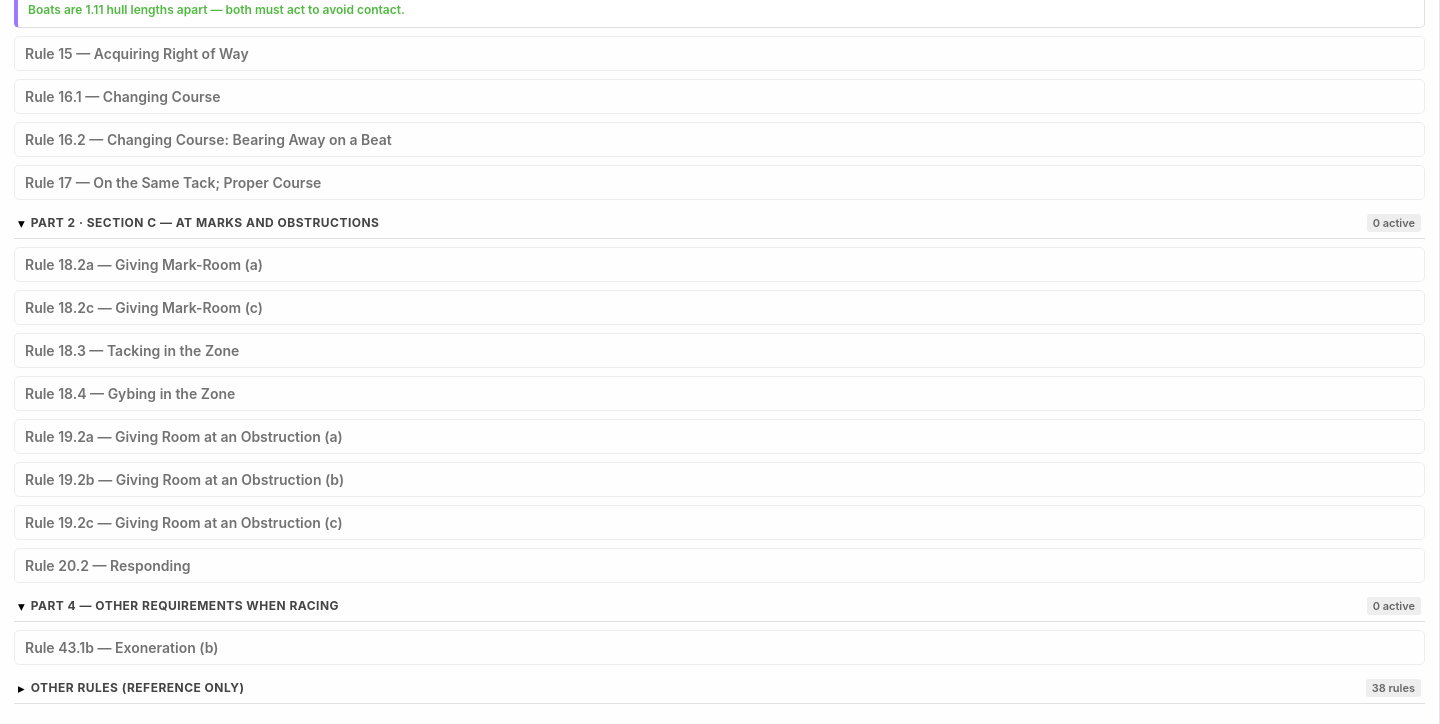
it: RulesSidebar grouping › collapses the reference group by default and expands it on click
(page scrolled)
Expected: the text "Rule 31 —" is not shown
Step 1. Click the button "▸ Other rules (reference only) 38 rules" → (138, 688), box [14,673,1425,704]
(page scrolled)
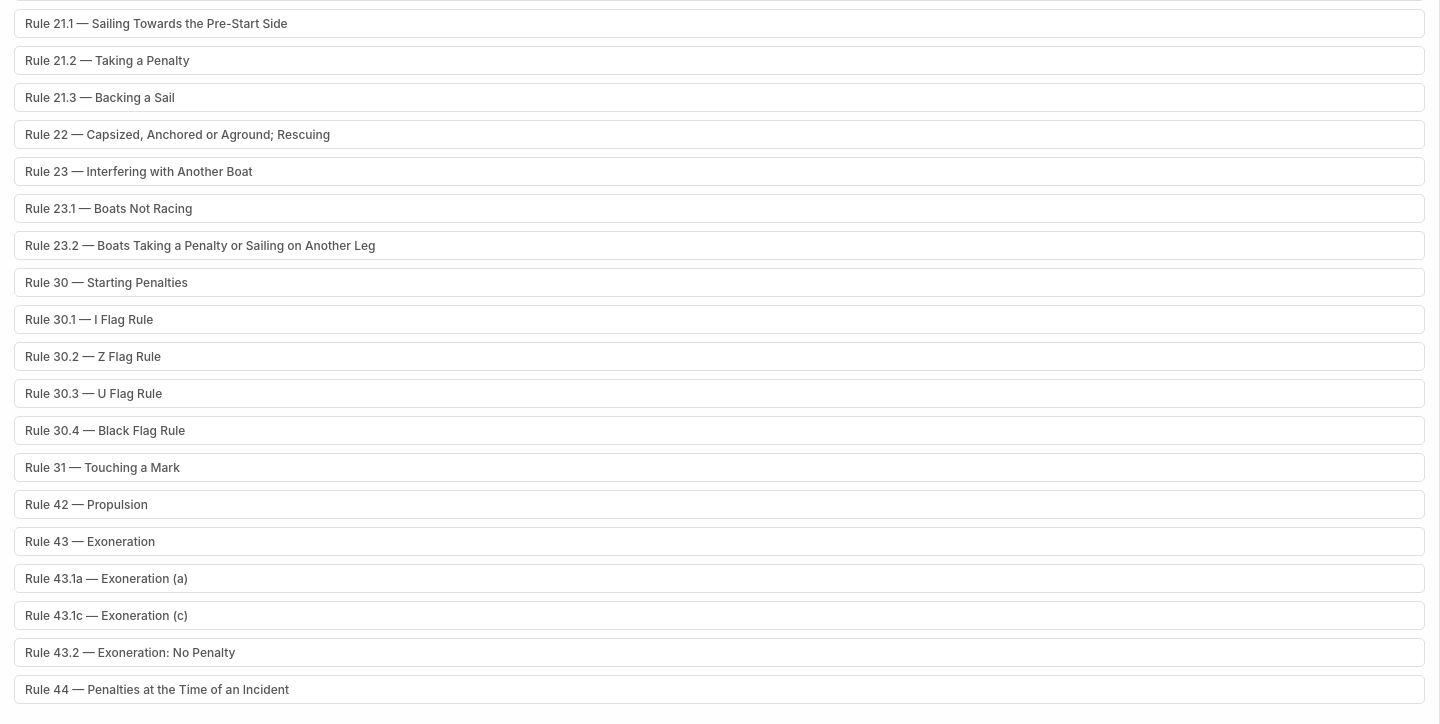
Result: the heading "Rule 31 — Touching a Mark" is shown at [25,460,180,475]
